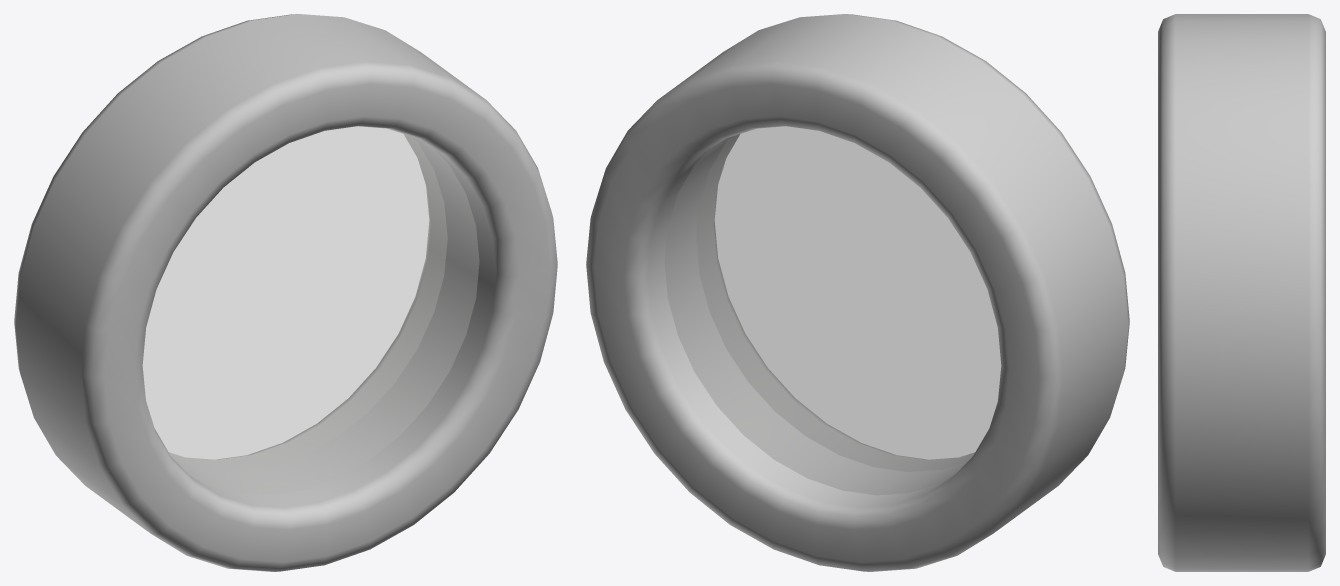
Rendered from Window_34.fbx.
3 views of the same model, side by side, from view 1: azimuth 30°, elevation 25°; view 2: azimuth 150°, elevation 25°; view 3: azimuth 270°, elevation 25° (orthographic).
Visible parts, largest first — view 1: Window_34; view 2: Window_34; view 3: Window_34.
Part boxes in pixels (x1=…): Window_34: x1=14, y1=14, x2=557, y2=571; Window_34: x1=586, y1=14, x2=1129, y2=571; Window_34: x1=1158, y1=14, x2=1325, y2=571.
Bounding box in the file's own units: 181 × 181 × 54.37.
